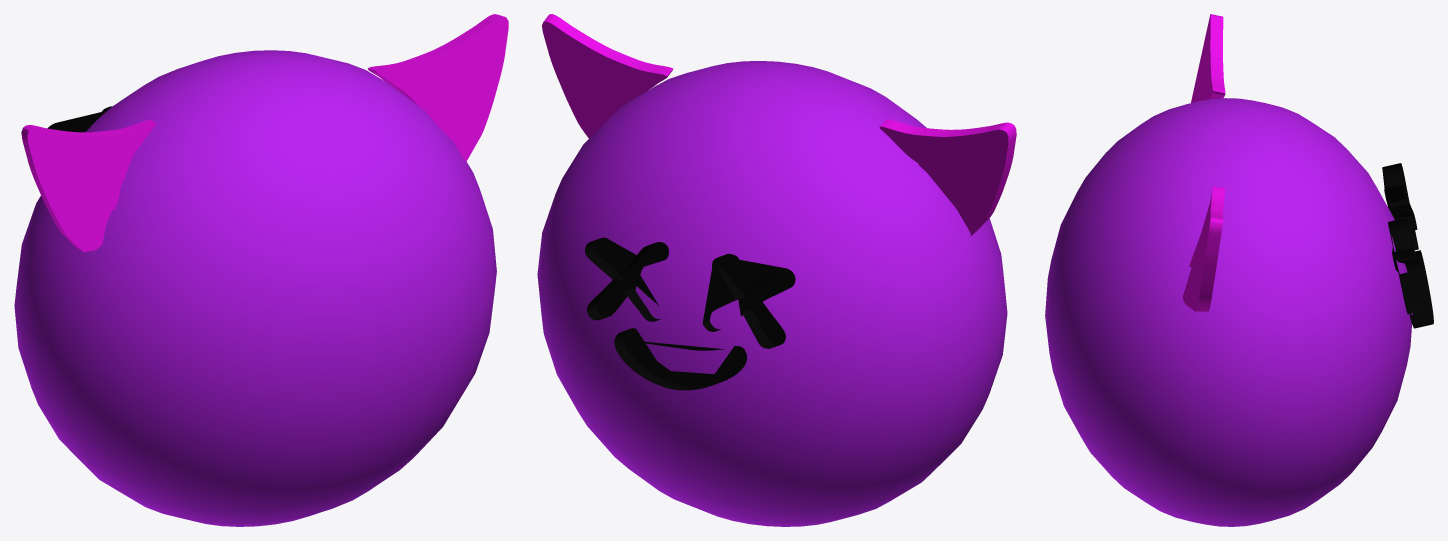
The model's file is devil.fbx.
3 renders of one model, left to right at view 1: azimuth 30°, elevation 25°; view 2: azimuth 150°, elevation 25°; view 3: azimuth 270°, elevation 25°, orthographic. The views are drawn at different scales.
Visible parts, largest first — view 1: Sphere, Circle, GreasePencil; view 2: Sphere, Circle, GreasePencil; view 3: Sphere, Circle, GreasePencil.
Part boxes in pixels (x1=…): Sphere: x1=14, y1=50, x2=496, y2=526; Circle: x1=21, y1=14, x2=508, y2=252; GreasePencil: x1=47, y1=106, x2=111, y2=132; Sphere: x1=537, y1=61, x2=1007, y2=526; Circle: x1=542, y1=14, x2=1016, y2=235; GreasePencil: x1=585, y1=237, x2=795, y2=390; Sphere: x1=1045, y1=98, x2=1412, y2=526; Circle: x1=1182, y1=14, x2=1225, y2=311; GreasePencil: x1=1382, y1=163, x2=1433, y2=328.
Bounding box in the file's own units: 200 × 177 × 159.
